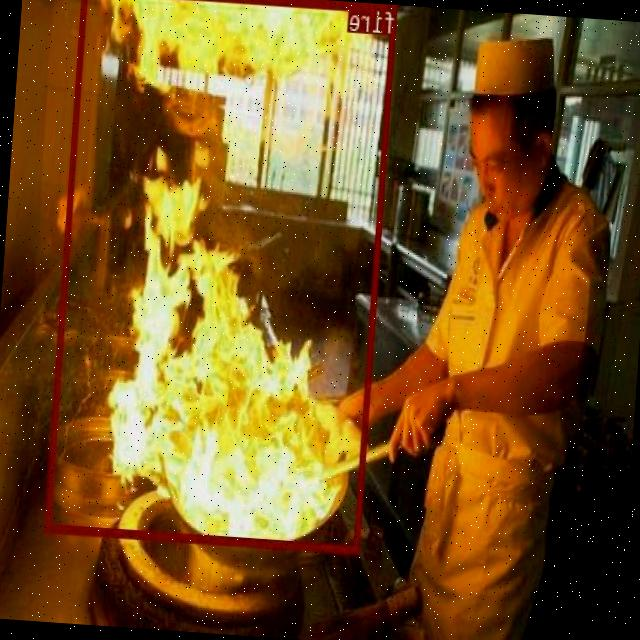fire: (44, 0, 398, 553)
